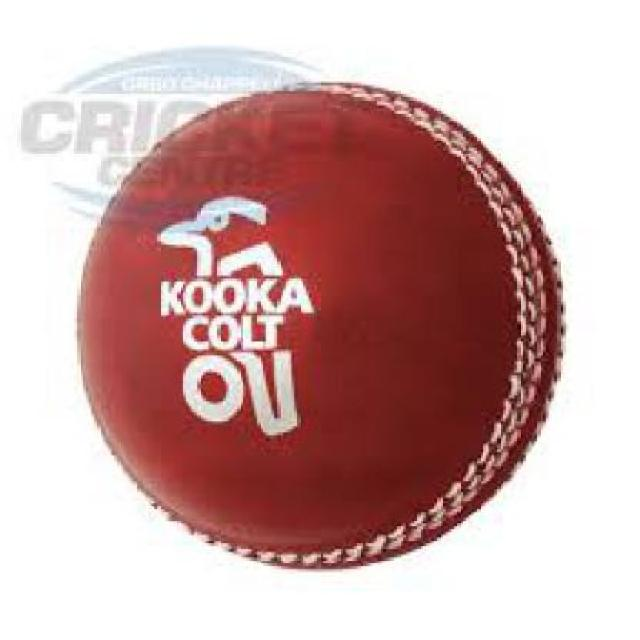ball: (51, 46, 616, 603)
